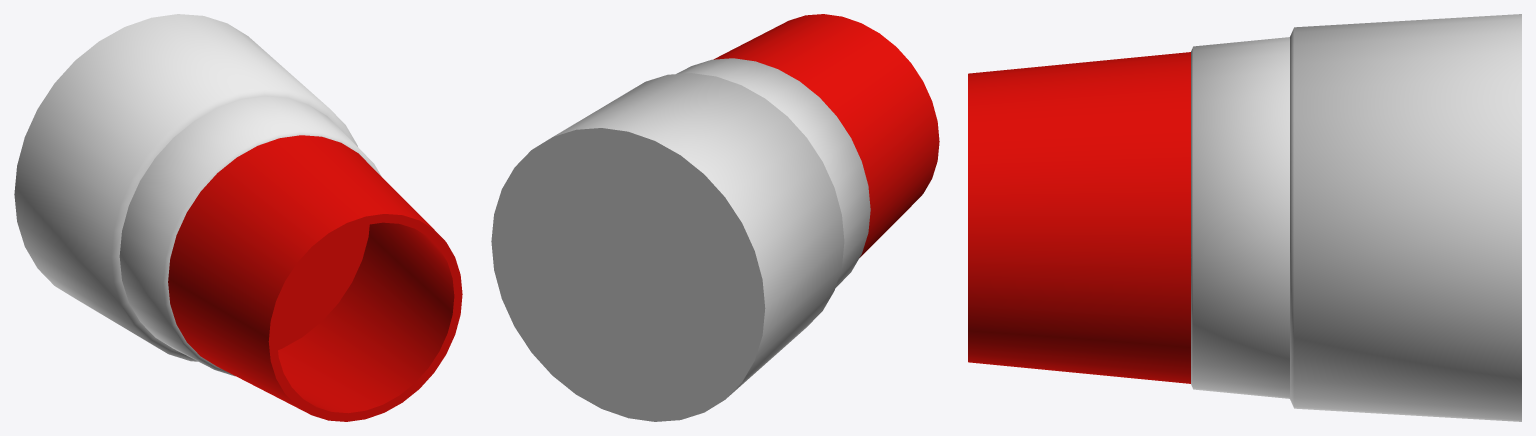
The model's file is ThrusterTest.fbx.
3 views of the same model, side by side, from view 1: azimuth 30°, elevation 25°; view 2: azimuth 150°, elevation 25°; view 3: azimuth 270°, elevation 25° (orthographic). The views are drawn at different scales.
Visible parts, largest first — view 1: Cylinder; view 2: Cylinder; view 3: Cylinder.
Boxes of the visible parts, box(x1,y1,x2,y2) form: Cylinder: box(14, 14, 462, 421); Cylinder: box(491, 14, 939, 421); Cylinder: box(968, 14, 1521, 421).
Bounding box in the file's own units: 1.41 × 1.41 × 1.92.
